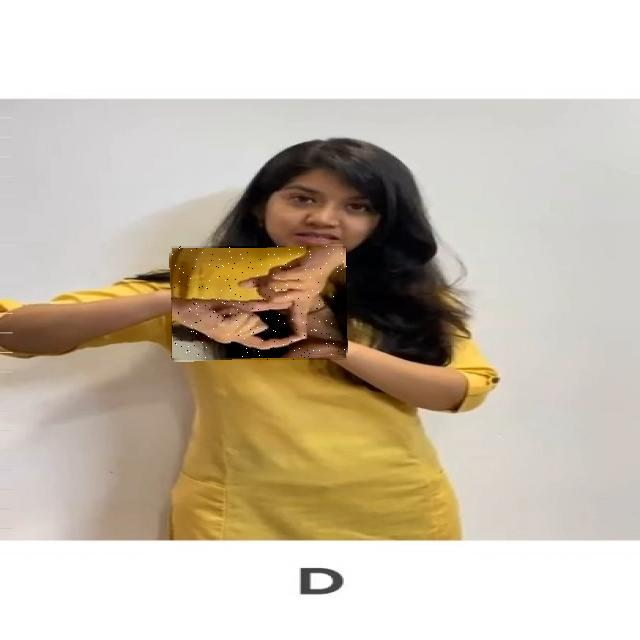D: (171, 246, 347, 360)
